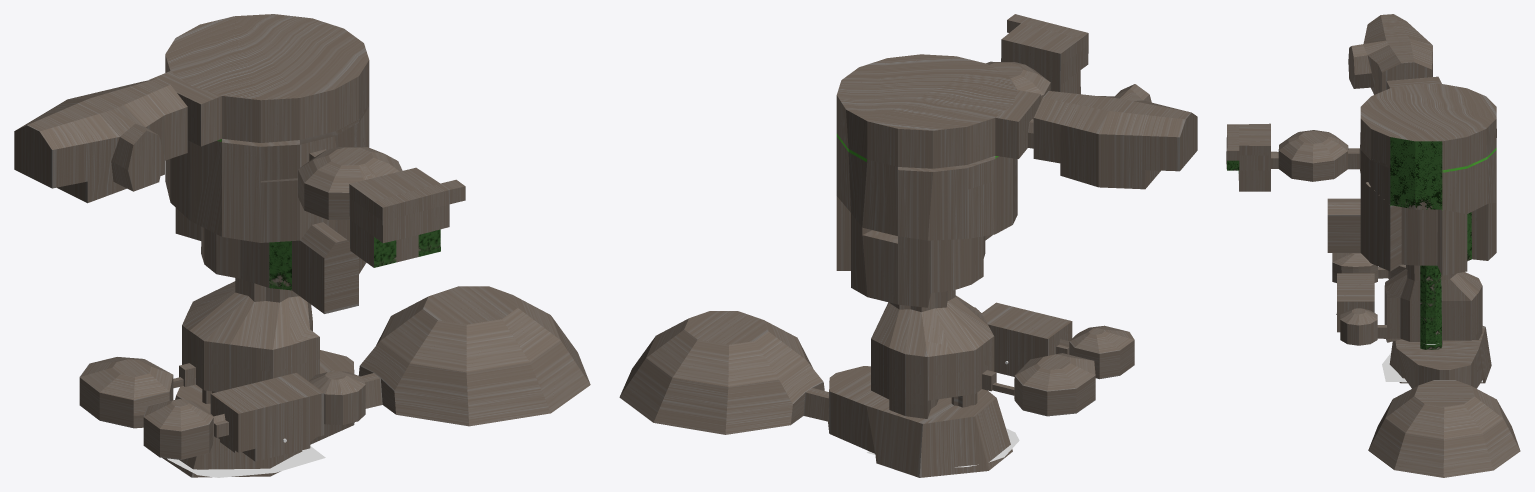
Rendered from Inside_the_deku_tree.fbx.
The picture shows the model from 3 angles, left to right: view 1: azimuth 30°, elevation 25°; view 2: azimuth 150°, elevation 25°; view 3: azimuth 270°, elevation 25°; orthographic projection. The views are drawn at different scales.
Visible parts, largest first — view 1: Chão, Escalável, H2O B2; view 2: Chão; view 3: Chão, Escalável, H2O B2.
Part boxes in pixels (left/top/right/bottom): Chão: left=14, top=14, right=590, bottom=477; Escalável: left=269, top=229, right=440, bottom=290; H2O B2: left=167, top=446, right=325, bottom=477; Chão: left=619, top=14, right=1197, bottom=477; Chão: left=1226, top=14, right=1520, bottom=477; Escalável: left=1227, top=137, right=1471, bottom=349; H2O B2: left=1382, top=352, right=1482, bottom=382.
Size of the model in its own units: 54949 by 36195 by 34955.
